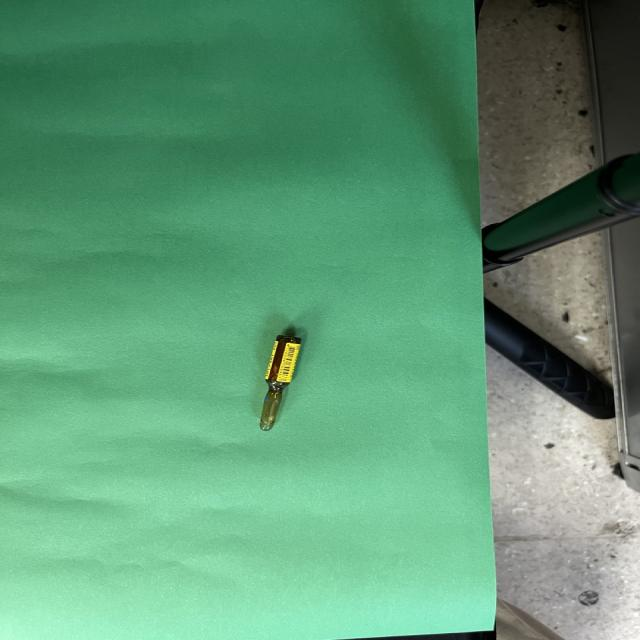Ampoules: (260, 336, 301, 430)
